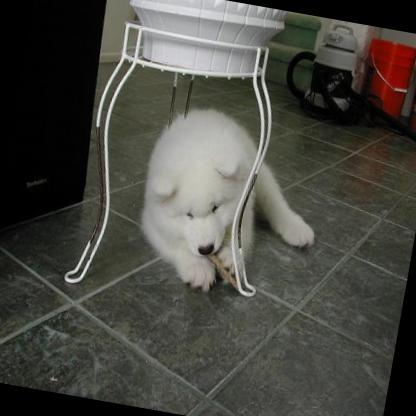Samoyed: (125, 95, 334, 310)
